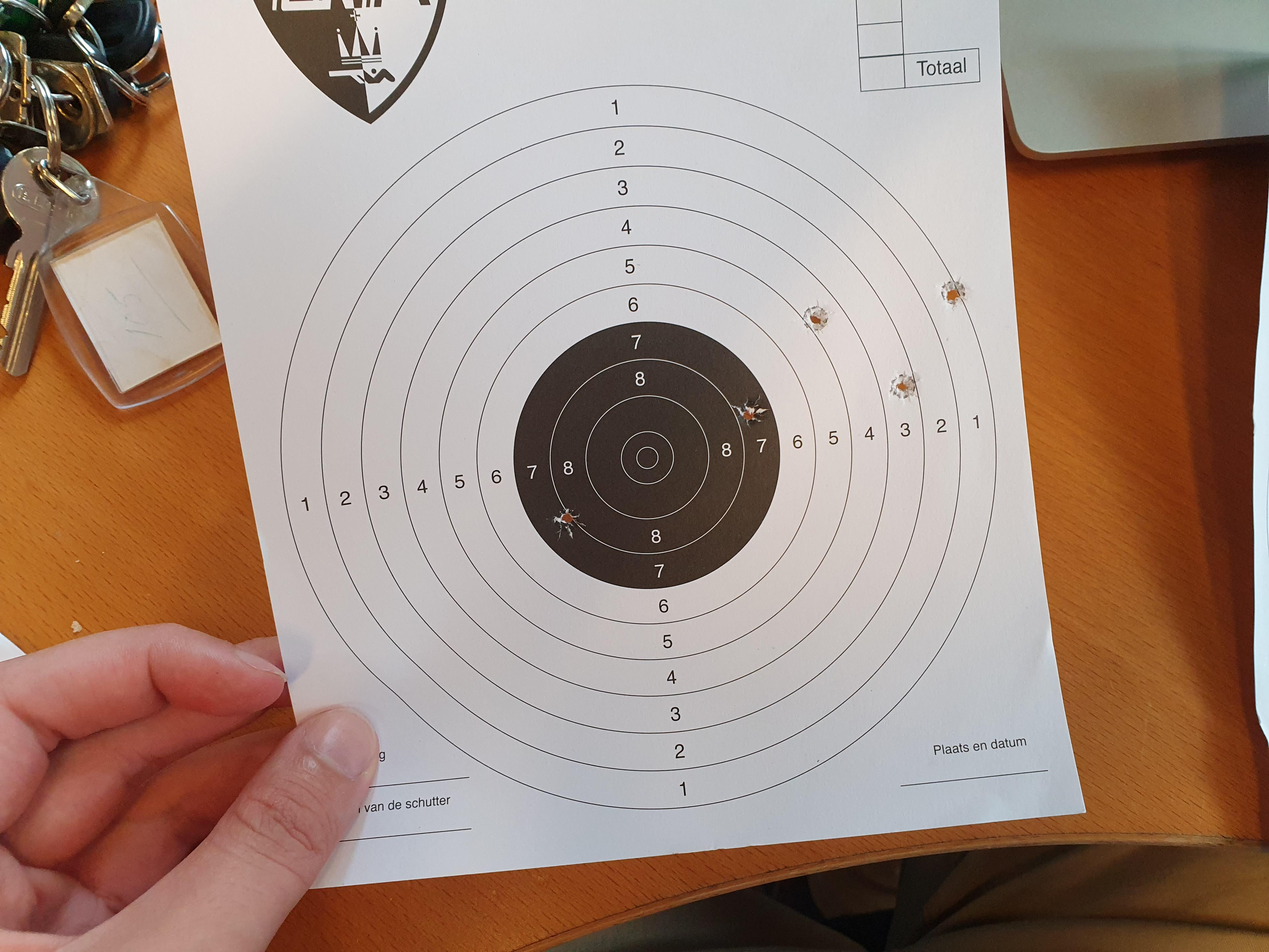hole: (548, 410, 596, 440), (820, 600, 871, 625), (730, 665, 778, 691), (700, 548, 743, 577), (856, 703, 902, 727)
